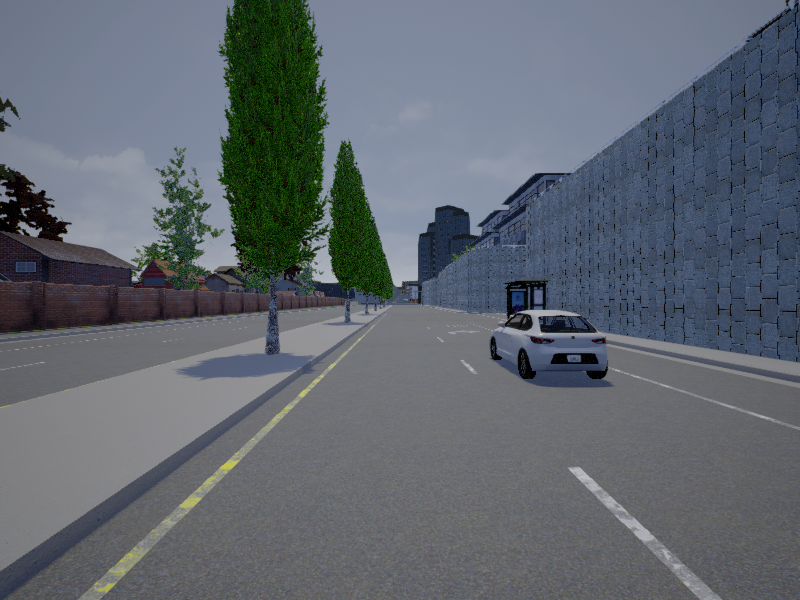Benign: (488, 311, 610, 380)
